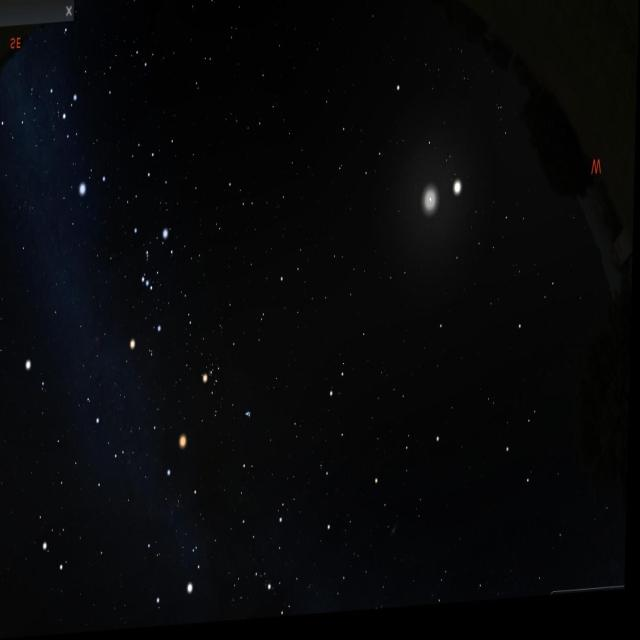canis_major: (63, 92, 113, 209)
canis_minor: (22, 340, 56, 406)
gemini: (35, 412, 127, 596)
moon: (414, 177, 450, 250)
orion: (126, 212, 180, 366)
pleiades: (244, 402, 258, 430)
taurus: (192, 331, 261, 450)
